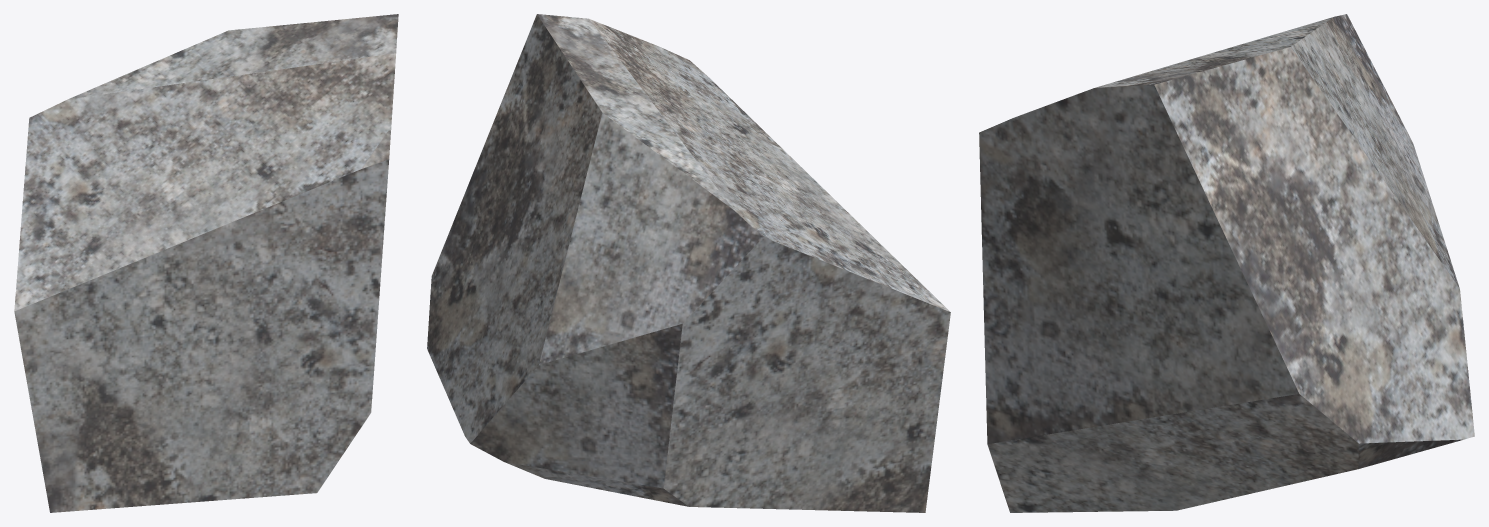
The model's file is Asteroid_Medium_001_02_002_03_008.fbx.
3 renders of one model, left to right at view 1: azimuth 30°, elevation 25°; view 2: azimuth 150°, elevation 25°; view 3: azimuth 270°, elevation 25°, orthographic. The views are drawn at different scales.
Visible parts, largest first — view 1: Asteroid_Medium_001_02_002_03_008; view 2: Asteroid_Medium_001_02_002_03_008; view 3: Asteroid_Medium_001_02_002_03_008.
Boxes of the visible parts, <box> form: Asteroid_Medium_001_02_002_03_008: <box>14,14,398,512</box>; Asteroid_Medium_001_02_002_03_008: <box>427,14,950,512</box>; Asteroid_Medium_001_02_002_03_008: <box>979,14,1474,512</box>.
Size of the model in its own units: 13.28 by 11.77 by 10.29.
